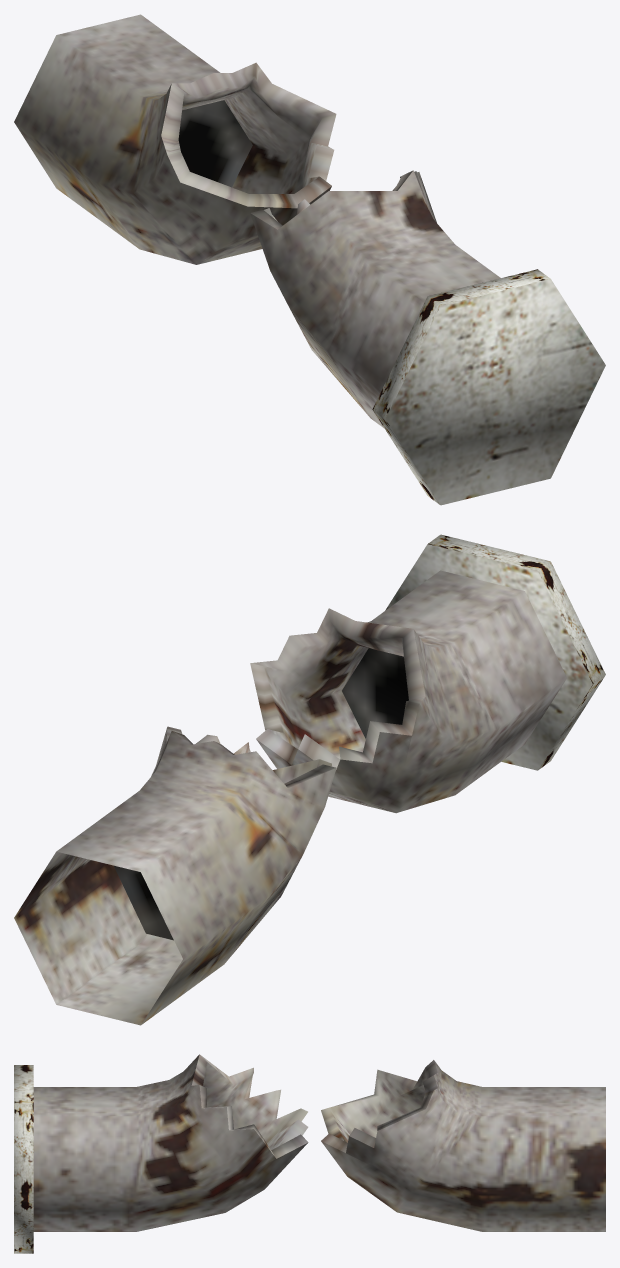
File: large_white_4_broken.fbx
The picture shows the model from 3 angles, top to bottom: view 1: azimuth 30°, elevation 25°; view 2: azimuth 150°, elevation 25°; view 3: azimuth 270°, elevation 25°; orthographic projection. The views are drawn at different scales.
Visible parts, largest first — view 1: polySurface658; view 2: polySurface658; view 3: polySurface658.
Boxes of the visible parts, bbox=[...] form: polySurface658: bbox=[14, 14, 605, 505]; polySurface658: bbox=[14, 534, 605, 1025]; polySurface658: bbox=[14, 1054, 605, 1253].
Size of the model in its own units: 1.3 by 1.24 by 4.07.
